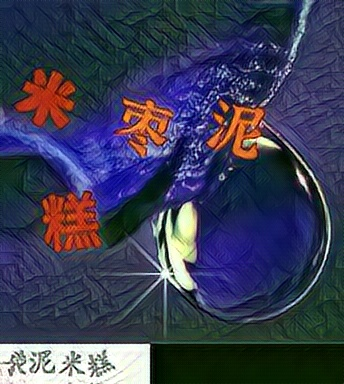B8E2: (40, 187, 104, 253)
C3D7: (14, 65, 78, 131)
C4E0: (202, 97, 266, 163)
D4E6: (112, 95, 176, 161)
